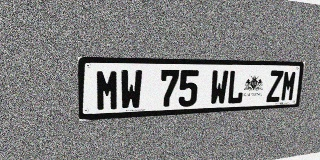5: (178, 70, 199, 107)
7: (158, 70, 180, 108)
L: (226, 70, 245, 104)
M: (95, 69, 119, 111), (280, 70, 297, 102)
W: (120, 70, 143, 110), (209, 70, 229, 105)
Z: (266, 70, 284, 102)
